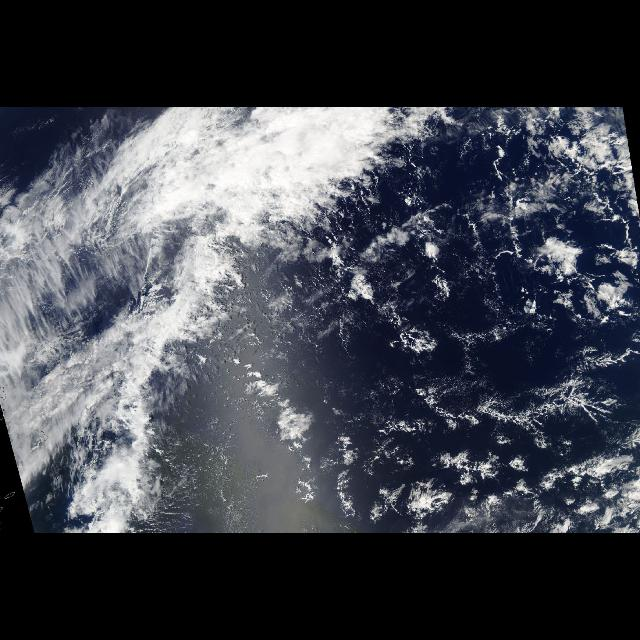Sugar: (446, 320, 542, 376)
